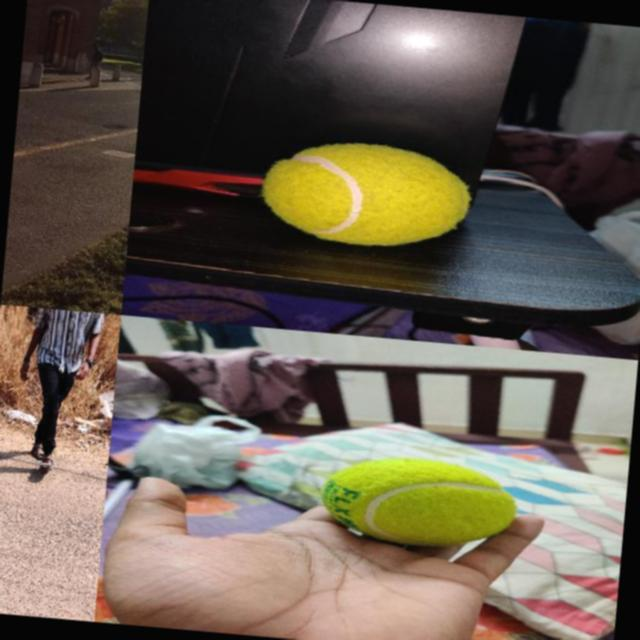tennis-ball: (257, 134, 473, 254), (314, 449, 520, 554)
